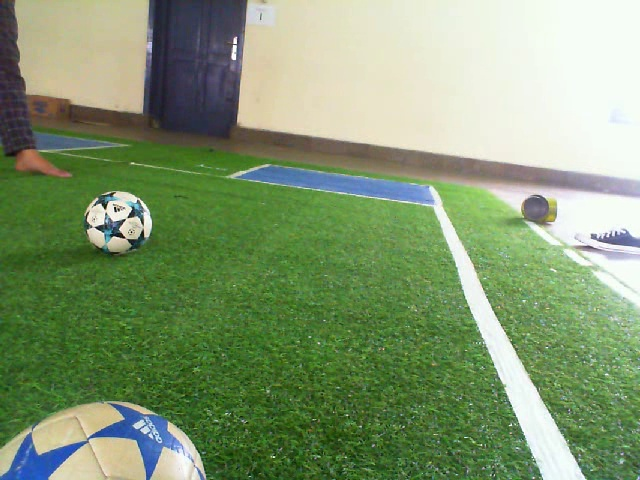ball: (1, 397, 209, 480), (82, 189, 154, 259)
